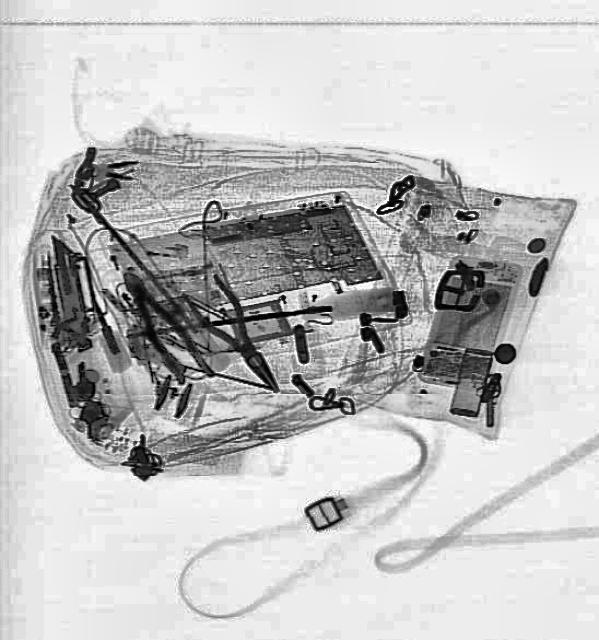Pliers: (176, 270, 296, 404), (110, 259, 216, 393)
